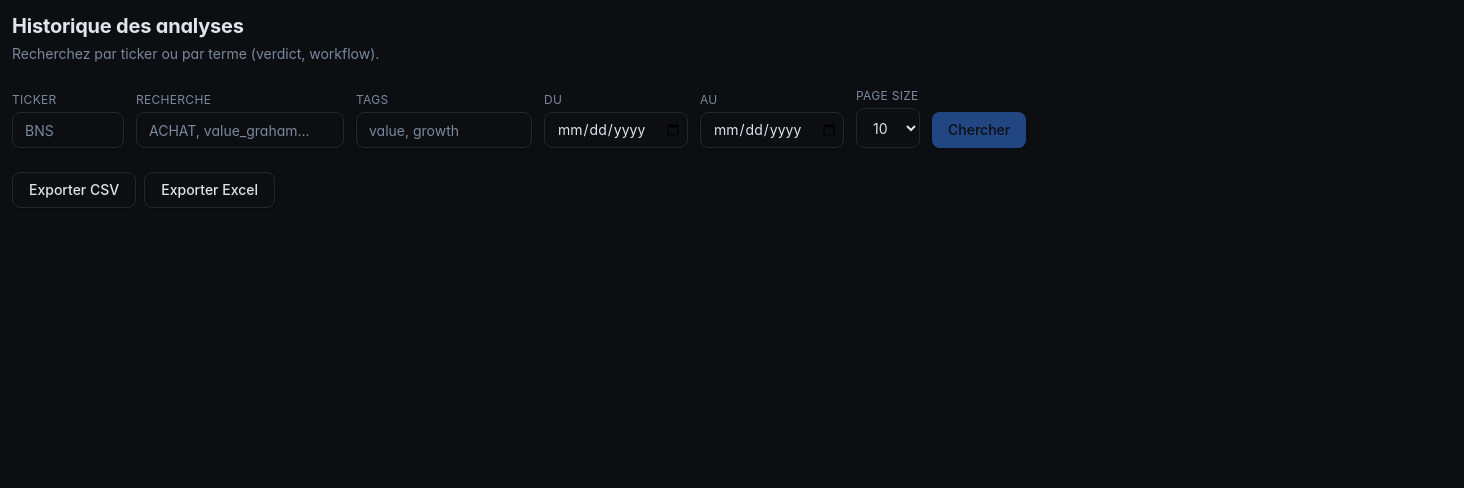
it: HistorySearch (Sprint 73 + Sprint 90) › affiche le notice cross-ticker quand q seul est fourni et des résultats existent
Type "CANDIDAT" into the field with test id "history-search-input".
click(240, 130); type("CANDIDAT")  # box [136,112,344,148]
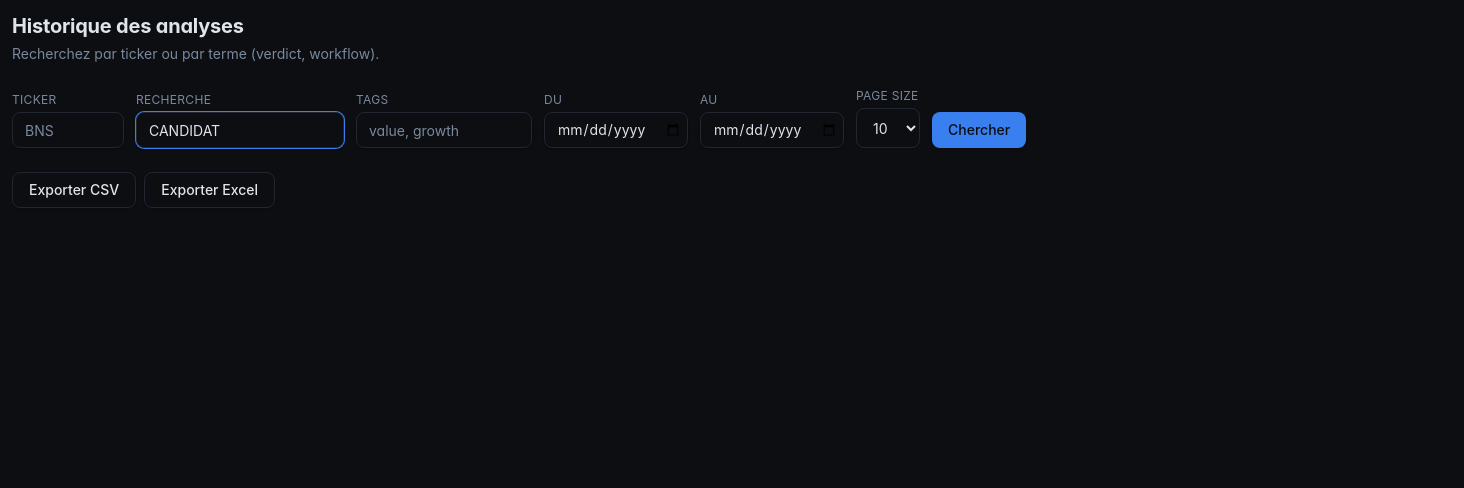
Click the button with test id "history-search-btn".
click(979, 130)  # box [932,112,1026,148]
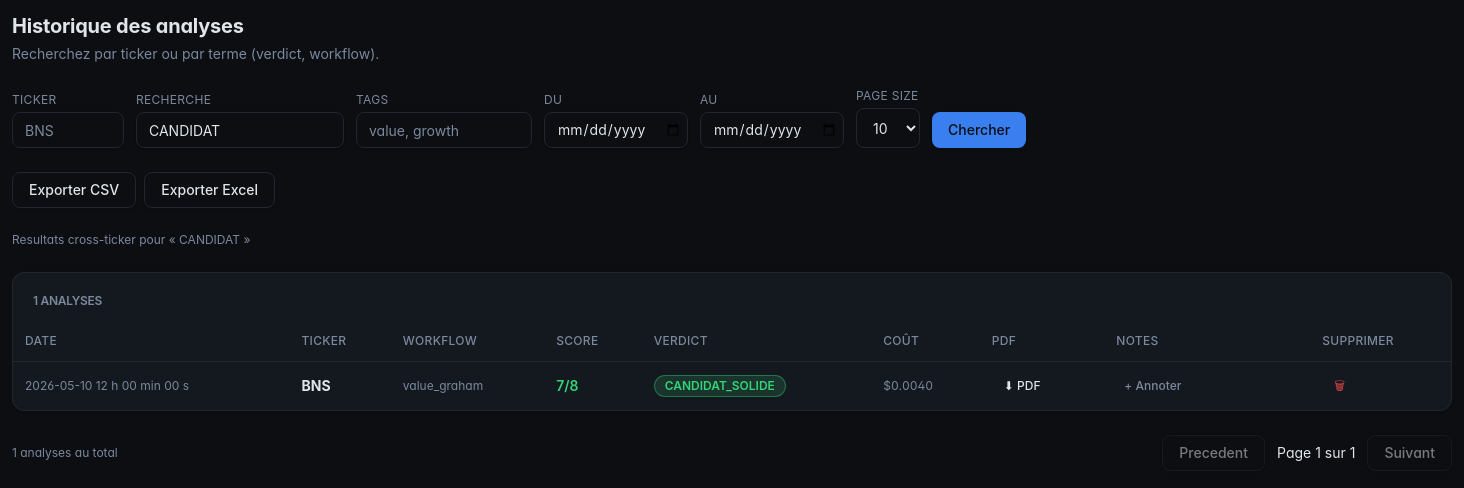
Now the text "Resultats cross-ticker pour « CANDIDAT »" is shown, box [12,232,250,247]
